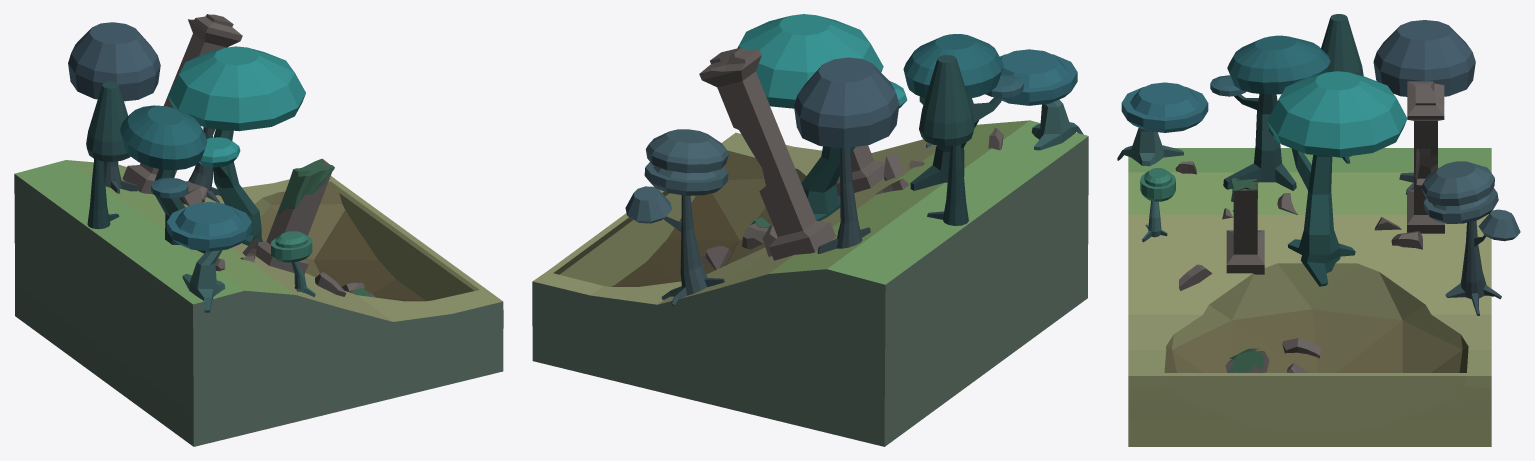
The picture shows the model from 3 angles, left to right: view 1: azimuth 30°, elevation 25°; view 2: azimuth 150°, elevation 25°; view 3: azimuth 270°, elevation 25°; orthographic projection. The views are drawn at different scales.
Visible parts, largest first — view 1: 立方体.001, 柱体.013, 柱体.021, 柱体.015, 柱体.014, Cube.003, 柱体.019, Cube.001, 柱体.010, Cube.004, 柱体.011, 柱体.018 (+6 smaller); view 2: 立方体.001, Cube.003, 柱体.021, 柱体.013, 柱体.025, 柱体.015, 柱体.019, 柱体.014, 柱体.022, 柱体.010, 柱体.020, 柱体.018 (+5 smaller); view 3: 立方体.001, 柱体.013, 柱体.021, 柱体.015, 柱体.010, Cube.003, 柱体.025, 柱体.014, Cube.001, 柱体.012, 柱体.022, 柱体.019 (+9 smaller).
Boxes of the visible parts, x1,y1,x2,y2 form: 立方体.001: (14, 160, 503, 446); 柱体.013: (168, 46, 305, 131); 柱体.021: (68, 22, 160, 101); 柱体.015: (120, 105, 207, 170); 柱体.014: (166, 202, 251, 251); Cube.003: (122, 14, 242, 194); 柱体.019: (86, 81, 130, 161); Cube.001: (255, 158, 331, 274); 柱体.010: (212, 129, 262, 245); Cube.004: (278, 159, 334, 214); 柱体.011: (182, 250, 225, 312); 柱体.018: (87, 159, 119, 229); 立方体.001: (532, 120, 1088, 446); Cube.003: (699, 47, 836, 260); 柱体.021: (794, 57, 899, 148); 柱体.013: (737, 14, 883, 108); 柱体.025: (644, 129, 728, 195); 柱体.015: (903, 34, 1003, 98); 柱体.019: (919, 55, 974, 146); 柱体.014: (1000, 49, 1077, 105); 柱体.022: (661, 195, 724, 306); 柱体.010: (801, 146, 855, 220); 柱体.020: (817, 147, 870, 253); 柱体.018: (927, 144, 968, 225); 立方体.001: (1128, 148, 1491, 446); 柱体.013: (1267, 71, 1407, 157); 柱体.021: (1373, 20, 1475, 96); 柱体.015: (1227, 35, 1330, 94); 柱体.010: (1287, 148, 1355, 286); Cube.003: (1407, 81, 1444, 233); 柱体.025: (1421, 161, 1498, 223); 柱体.014: (1121, 82, 1208, 132); Cube.001: (1226, 182, 1264, 274); 柱体.012: (1223, 94, 1296, 190); 柱体.022: (1445, 220, 1501, 315); 柱体.019: (1321, 14, 1363, 76).
Bounding box in the file's own units: 493 × 438 × 541.
